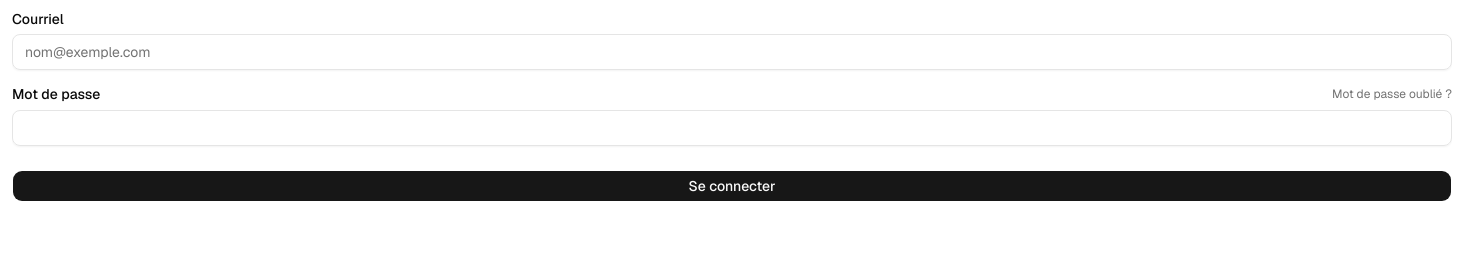
LoginForm › affiche l'erreur retournée par l'action directement dans le formulaire
Type "alex@exemple.com" into the field labelled "Courriel" at (732, 52), box x1=12 y1=34 x2=1452 y2=70
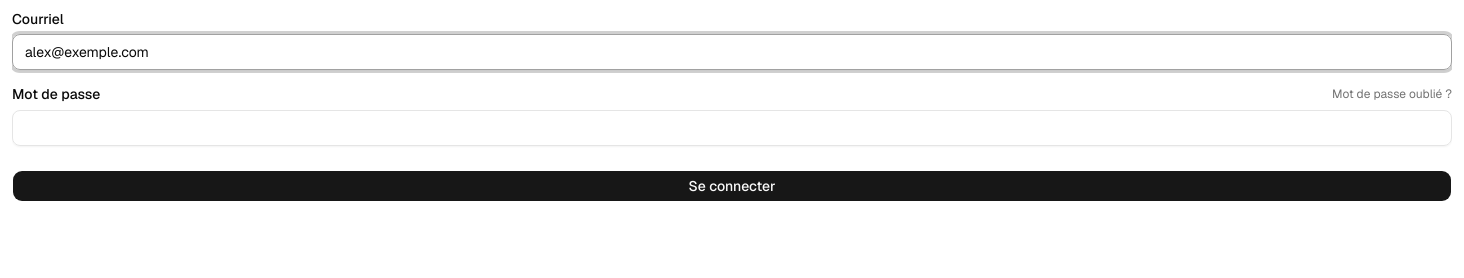
Type "mauvais-mdp" into the password field labelled "Mot de passe" at (732, 128), box x1=12 y1=110 x2=1452 y2=146
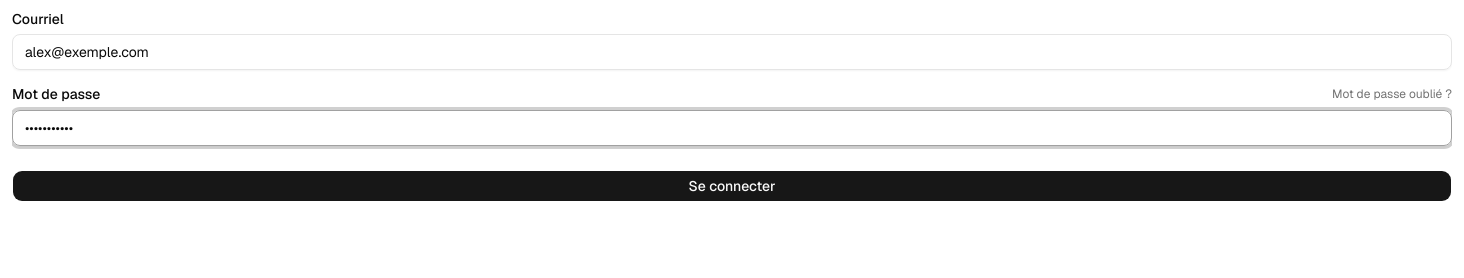
Click the button "Se connecter" at (732, 186), box x1=12 y1=170 x2=1452 y2=202
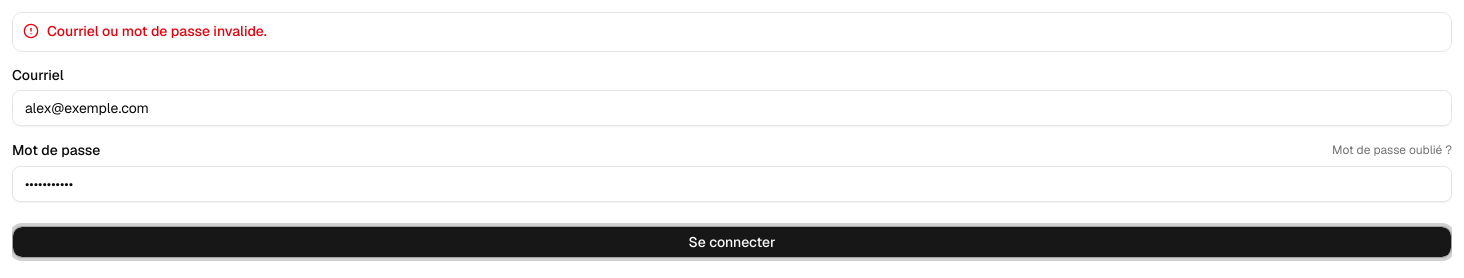
Expected: the message reads "Courriel ou mot de passe invalide.", x1=47 y1=22 x2=267 y2=40
